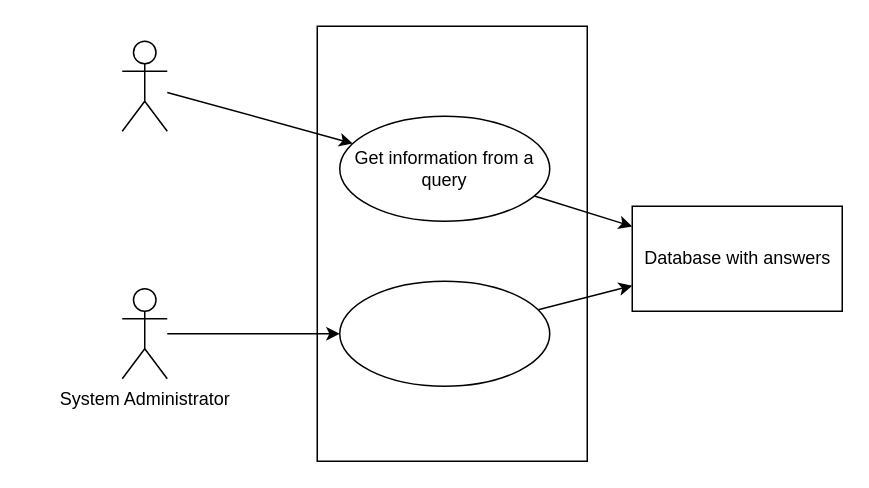
This 869x488 diagram has some shape labels left out. The shapes that lost their labels are listed below. From the top down, each one's box as (x1, y1, x2, y2) in pixels, then its label:
(121, 40, 167, 131): Student / Prospective Student
(338, 280, 550, 386): Update database
